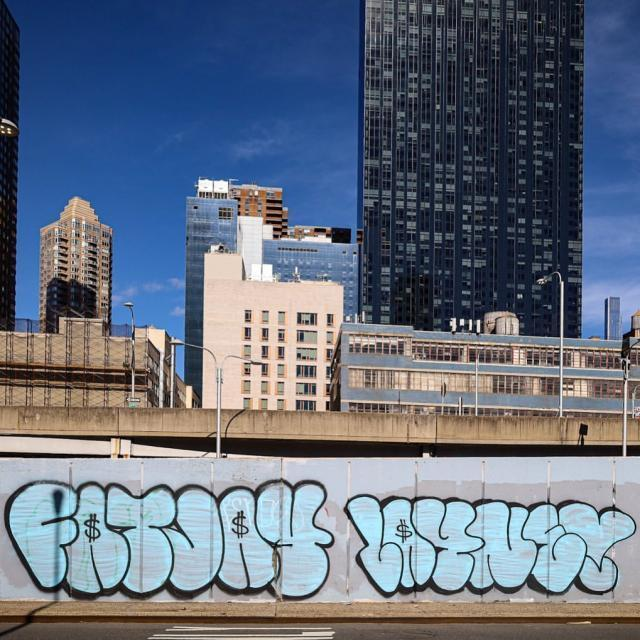nonspitting: (0, 471, 337, 603), (343, 492, 637, 600)
